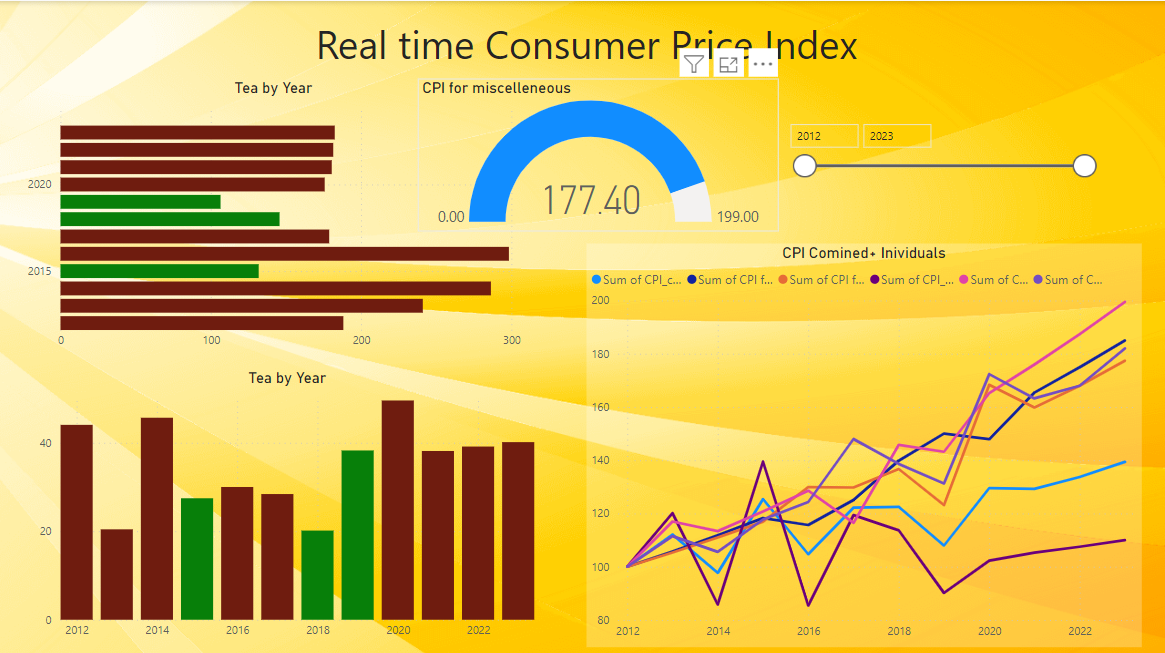

This screenshot's page, from the dashboard's own definition file:
{"tool":"powerbi","page":{"name":"Page 1","canvas":[1280,720],"ordinal":0},"visuals":[{"type":"lineChart","title":"CPI Comined+ Inividuals","fields":{"Y":["Sum(cpi_pan_miscellenouss_2012_to_2.CPI_combined)","Sum(cpi_pan_miscellenouss_2012_to_2.CPI for Clothing and Footwear)","Sum(cpi_pan_miscellenouss_2012_to_2.CPI for miscelleneous)","Sum(cpi_pan_miscellenouss_2012_to_2.CPI_Food and beverages)","Sum(cpi_pan_miscellenouss_2012_to_2.CPI for Intoxicants)","Sum(cpi_pan_miscellenouss_2012_to_2.CPI for Fuel and Light)"],"Category":["cpi_pan_miscellenouss_2012_to_2.Year"]},"box":[644.9,266.2,609.3,443.2],"z":0},{"type":"textbox","box":[317,12.3,655.9,72.7],"z":1000},{"type":"clusteredBarChart","title":"Tea by Year","fields":{"Y":["Sum(food_and_beverage_prices.Tea)"],"Category":["food_and_beverage_prices.Year"]},"box":[24.7,85.1,553,306],"z":2000},{"type":"gauge","title":"CPI for miscelleneous","fields":{"Y":["Max(cpi_pan_miscellenouss_2012_to_2.CPI for miscelleneous)"]},"box":[459.7,85.1,396.6,167.4],"z":3000},{"type":"slicer","fields":{"Values":["cpi_pan_miscellenouss_2012_to_2.Year"]},"box":[856.3,124.9,356.8,87.8],"z":4000},{"type":"clusteredColumnChart","title":"Tea by Year","fields":{"Category":["food_and_beverage_prices.Year"],"Y":["Sum(food_and_beverage_prices.Banana)"]},"box":[39.8,403.4,553,306],"z":5000}]}

Visuals, with their boxes in screenshot pixels (x1, y1, x2, y2), scaled from the page's 1280x720 canvas onto the 1165x653 screenshot:
"CPI Comined+ Inividuals" lineChart: detection(587, 241, 1142, 643)
textbox: detection(289, 11, 885, 77)
"Tea by Year" clusteredBarChart: detection(22, 77, 526, 355)
"CPI for miscelleneous" gauge: detection(418, 77, 779, 229)
slicer - cpi_pan_miscellenouss_2012_to_2.Year: detection(779, 113, 1104, 193)
"Tea by Year" clusteredColumnChart: detection(36, 366, 540, 643)
